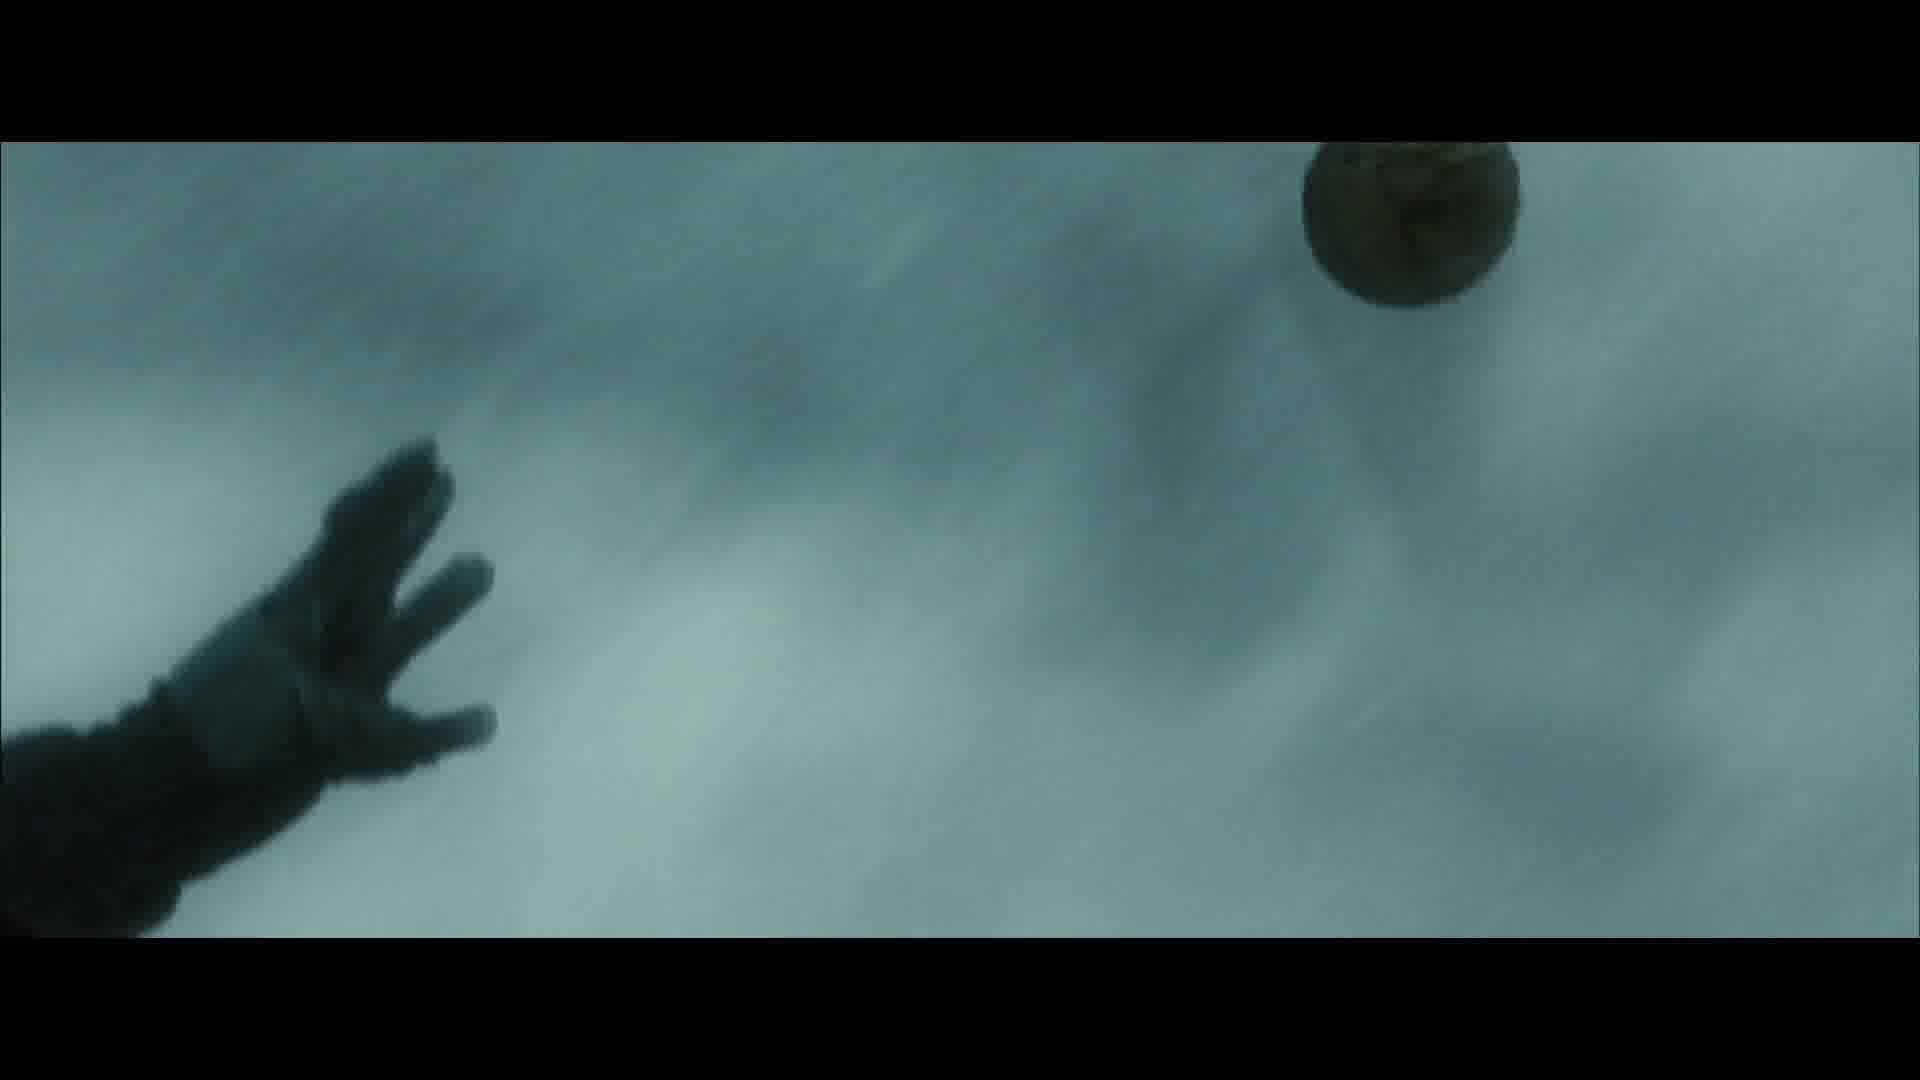snitch: (1294, 142, 1523, 314)
